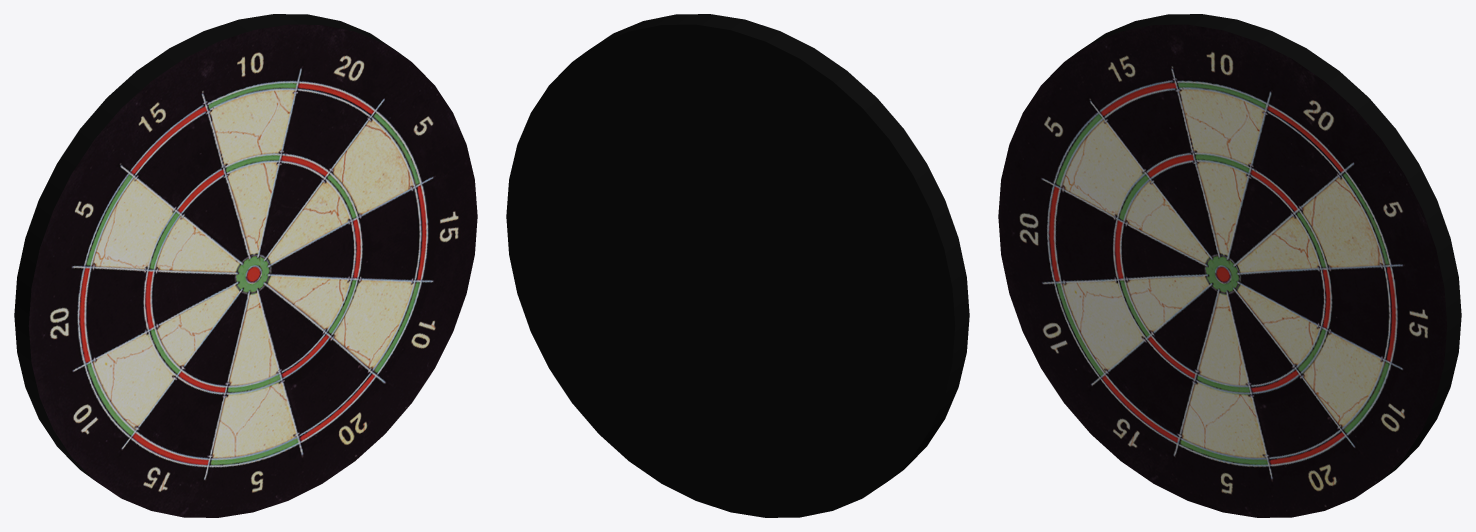
File: Dart board.FBX
The picture shows the model from 3 angles, left to right: view 1: azimuth 30°, elevation 25°; view 2: azimuth 150°, elevation 25°; view 3: azimuth 330°, elevation 25°; orthographic projection.
Parts seen in each view (by area): view 1: dart board; view 2: dart board; view 3: dart board.
Boxes of the visible parts, x1,y1,x2,y2 form: dart board: [14, 14, 477, 517]; dart board: [506, 14, 969, 517]; dart board: [998, 14, 1461, 517].
Size of the model in its own units: 440 by 24.52 by 451.
1 material, 1 textured.
